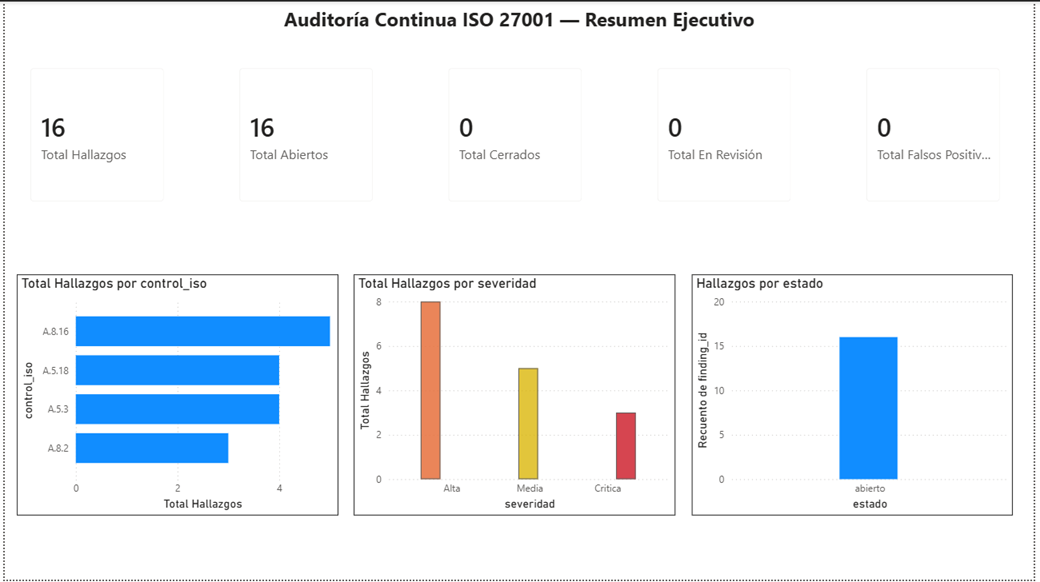

Layout of this report page (visuals, bound fields, positions):
{"tool":"powerbi","page":{"name":"Resumen Ejecutivo","canvas":[1280,720],"ordinal":0},"visuals":[{"type":"cardVisual","fields":{"Data":["vw_resumen_ejecutivo.Total Abiertos"]},"box":[274.7,65.9,200,200],"z":0},{"type":"cardVisual","fields":{"Data":["vw_resumen_ejecutivo.Total Hallazgos"]},"box":[14.8,65.9,200,200],"z":2},{"type":"cardVisual","fields":{"Data":["vw_resumen_ejecutivo.Total Cerrados"]},"box":[534.6,65.9,200,200],"z":3},{"type":"cardVisual","fields":{"Data":["vw_resumen_ejecutivo.Total Falsos Positivos"]},"box":[1054.3,65.9,200,200],"z":4},{"type":"cardVisual","fields":{"Data":["vw_resumen_ejecutivo.Total En Revisión"]},"box":[794.5,65.9,200,200],"z":5},{"type":"clusteredBarChart","fields":{"Category":["vw_resumen_ejecutivo.control_iso"],"Y":["vw_resumen_ejecutivo.Total Hallazgos"]},"box":[14.5,339.9,400,300],"z":6},{"type":"clusteredColumnChart","title":"Total Hallazgos por severidad","fields":{"Category":["vw_resumen_ejecutivo.severidad"],"Y":["vw_resumen_ejecutivo.Total Hallazgos"],"Series":["vw_resumen_ejecutivo.severidad"]},"box":[434.1,339.9,400,300.1],"z":7},{"type":"textbox","box":[0,0,1280,52],"z":9},{"type":"clusteredColumnChart","title":"Hallazgos por estado","fields":{"Category":["vw_detalle_hallazgos.estado"],"Y":["CountNonNull(vw_detalle_hallazgos.finding_id)"]},"box":[855.1,339.9,399.5,300.1],"z":10}]}

Visuals, with their boxes in screenshot pixels (x1, y1, x2, y2), scaled from the page's 1280x720 canvas onto the 1040x582 screenshot:
cardVisual - vw_resumen_ejecutivo.Total Abiertos: (x1=223, y1=53, x2=386, y2=215)
cardVisual - vw_resumen_ejecutivo.Total Hallazgos: (x1=12, y1=53, x2=175, y2=215)
cardVisual - vw_resumen_ejecutivo.Total Cerrados: (x1=434, y1=53, x2=597, y2=215)
cardVisual - vw_resumen_ejecutivo.Total Falsos Positivos: (x1=857, y1=53, x2=1019, y2=215)
cardVisual - vw_resumen_ejecutivo.Total En Revisión: (x1=646, y1=53, x2=808, y2=215)
clusteredBarChart - vw_resumen_ejecutivo.control_iso x vw_resumen_ejecutivo.Total Hallazgos: (x1=12, y1=275, x2=337, y2=517)
"Total Hallazgos por severidad" clusteredColumnChart: (x1=353, y1=275, x2=678, y2=517)
textbox: (x1=0, y1=0, x2=1039, y2=42)
"Hallazgos por estado" clusteredColumnChart: (x1=695, y1=275, x2=1019, y2=517)
